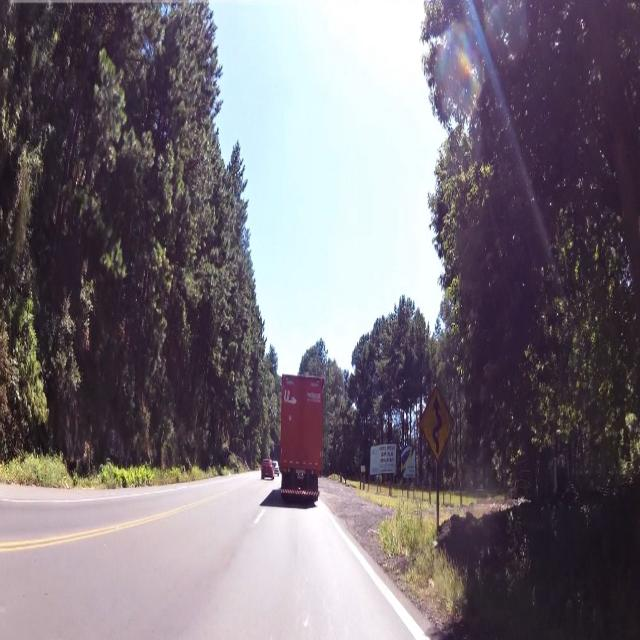A-3a: (421, 387, 454, 459)
